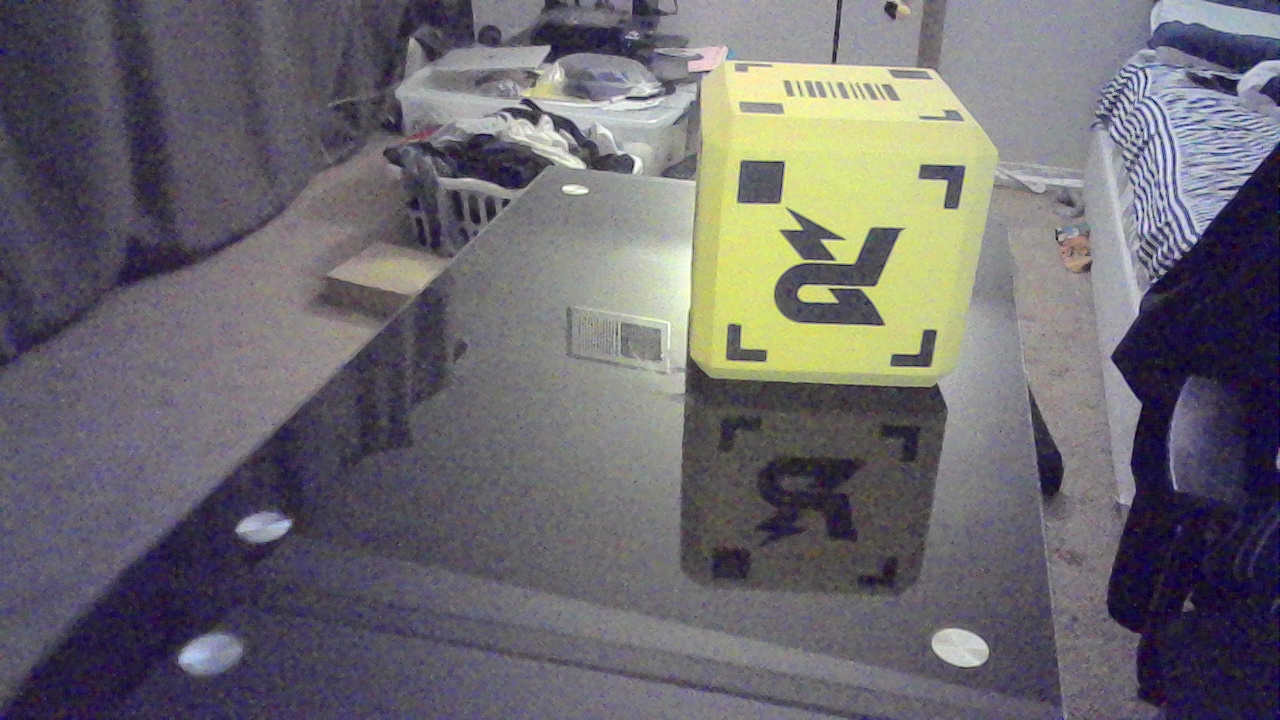Barcode: (785, 76, 915, 117)
R: (770, 213, 917, 334)
